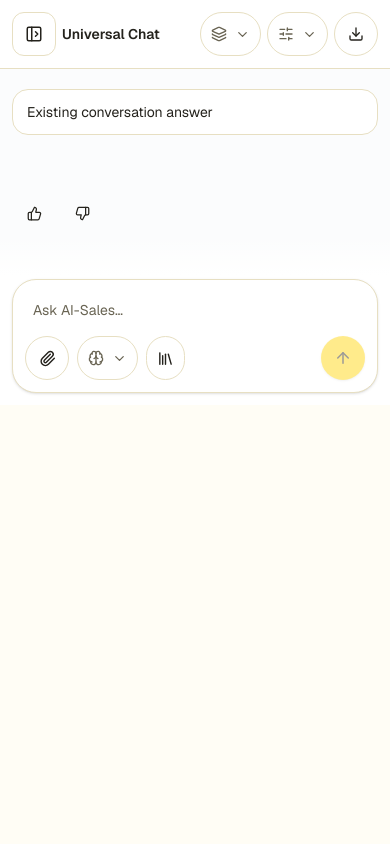
Scenario: conversation history drawer › closes when the scrim is tapped
Click the button named "Show conversation history": (34, 34) [12,12,56,56]
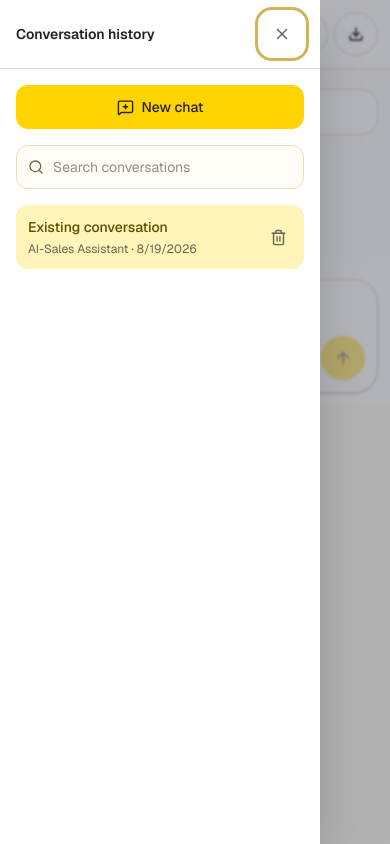
Click the 1st button named "Close conversation history": (367, 422) [0,0,389,843]
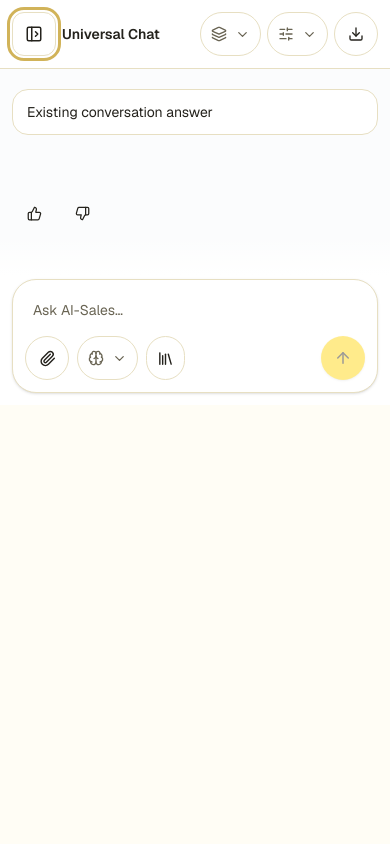
Result: the dialog is gone
